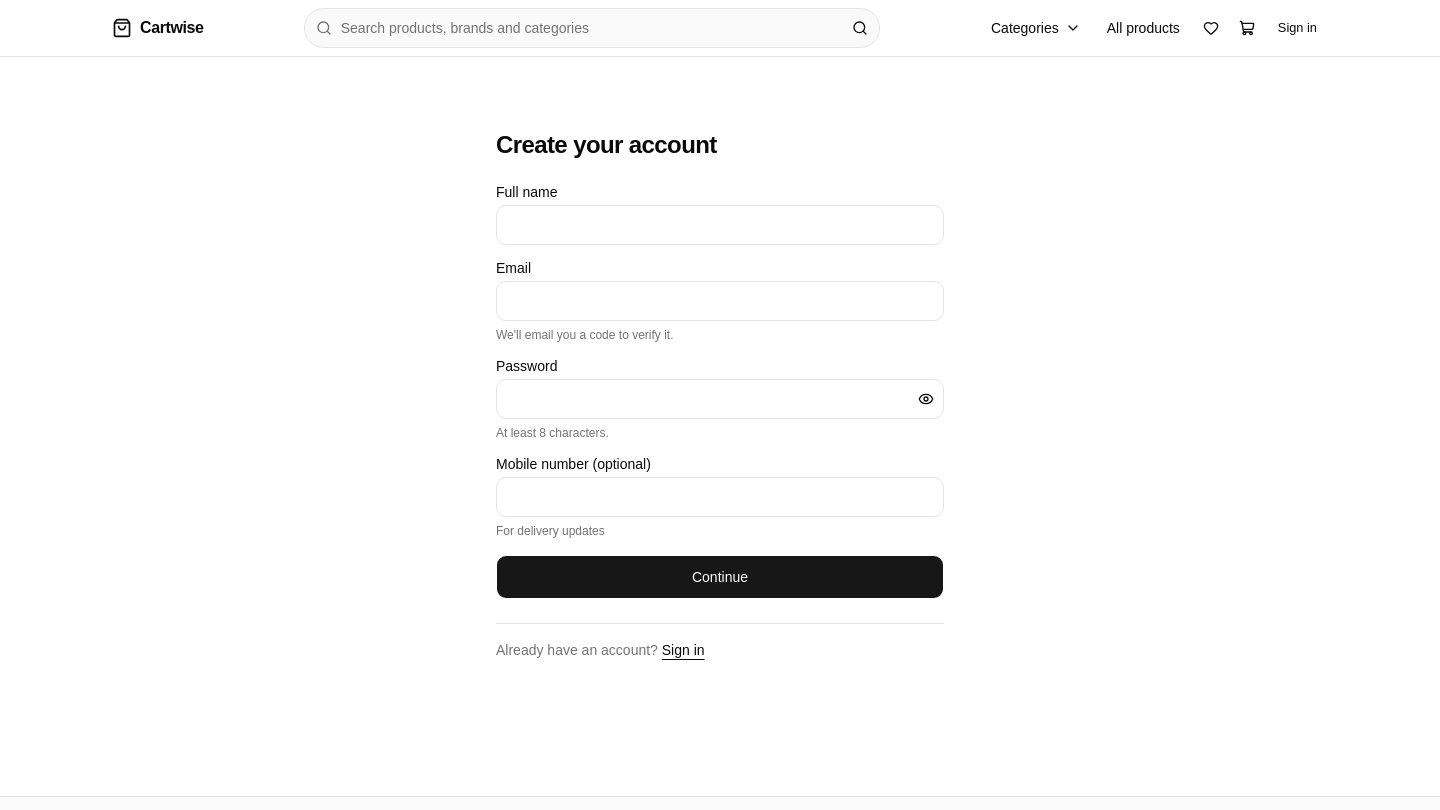
sign-up › points existing customers to sign in
The image size is (1440, 810).
Type "Karan" into the field labelled "Full name" at (720, 225), box x1=496 y1=205 x2=944 y2=245
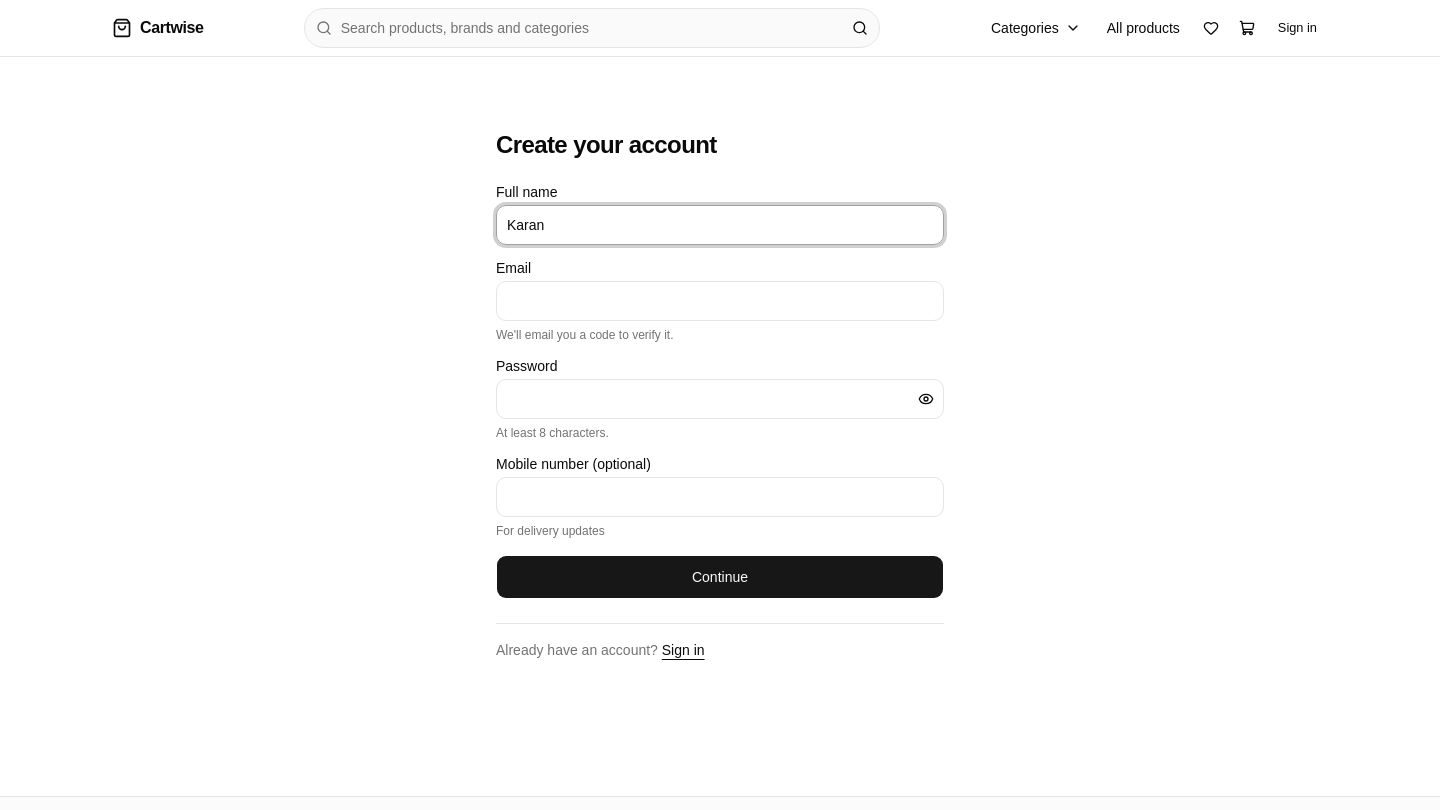
Type "karan@example.com" into the field labelled "Email" at (720, 301), box x1=496 y1=281 x2=944 y2=321
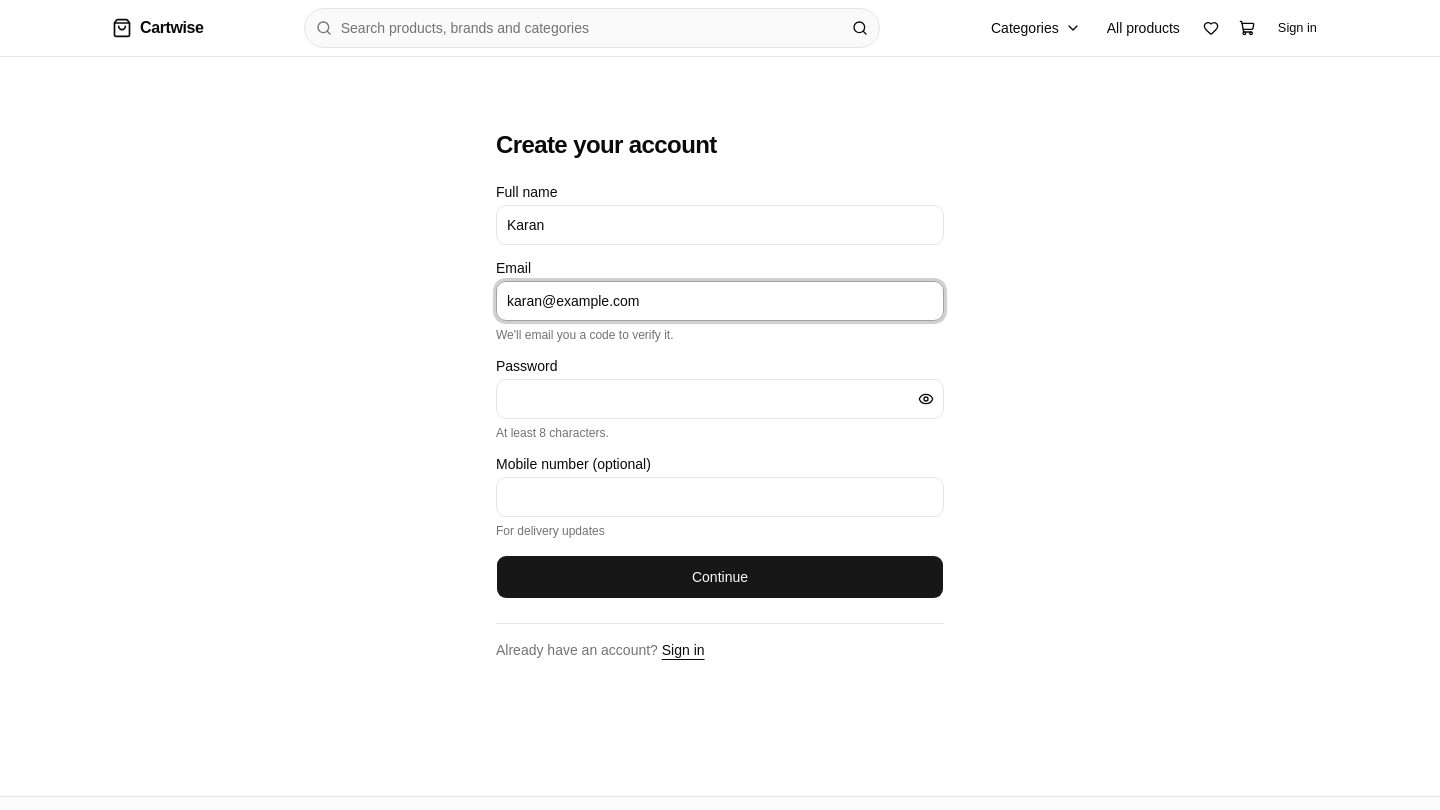
Type "another secret" into the password field labelled "Password" at (720, 399), box x1=496 y1=379 x2=944 y2=419
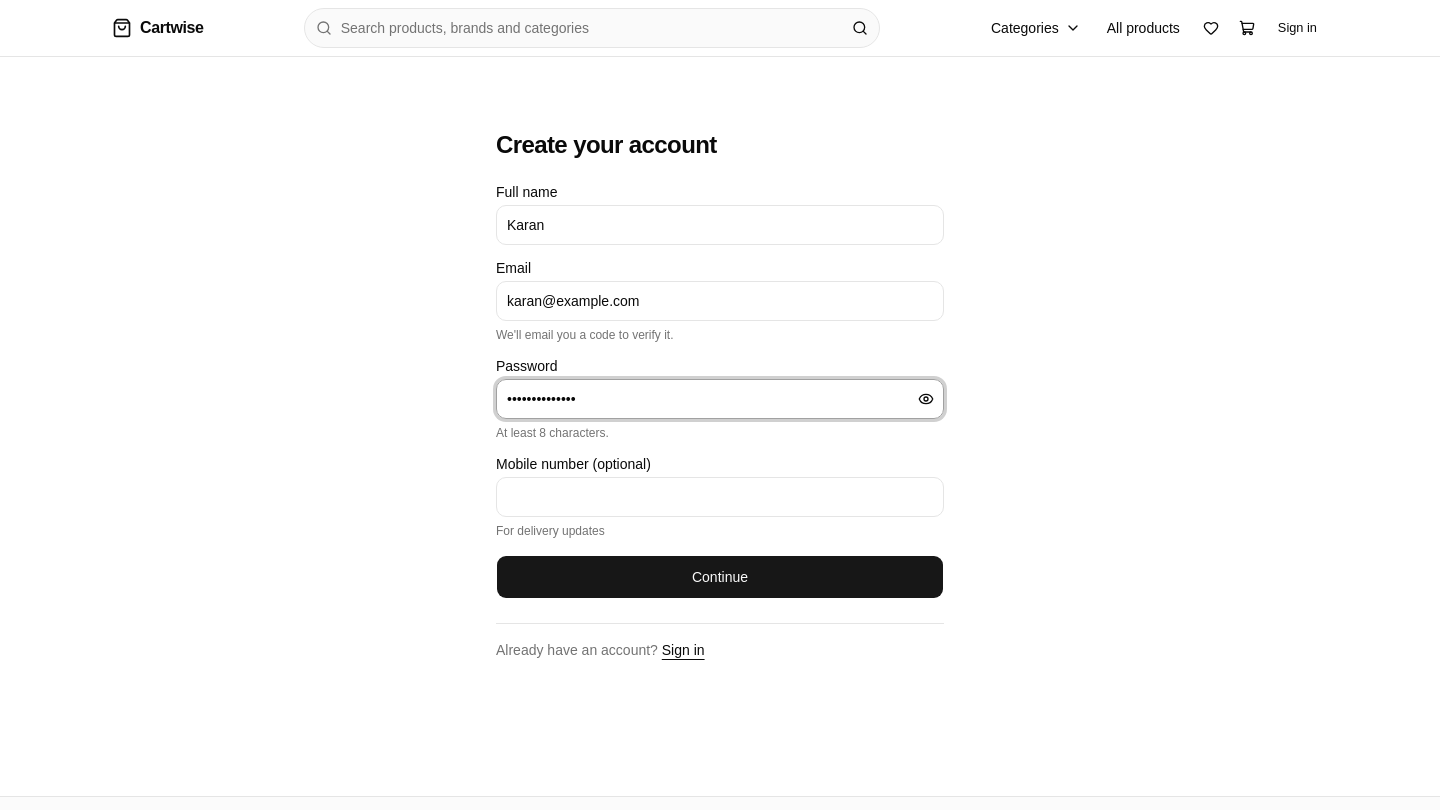
Click the button "Continue" at (720, 577), box x1=496 y1=555 x2=944 y2=599
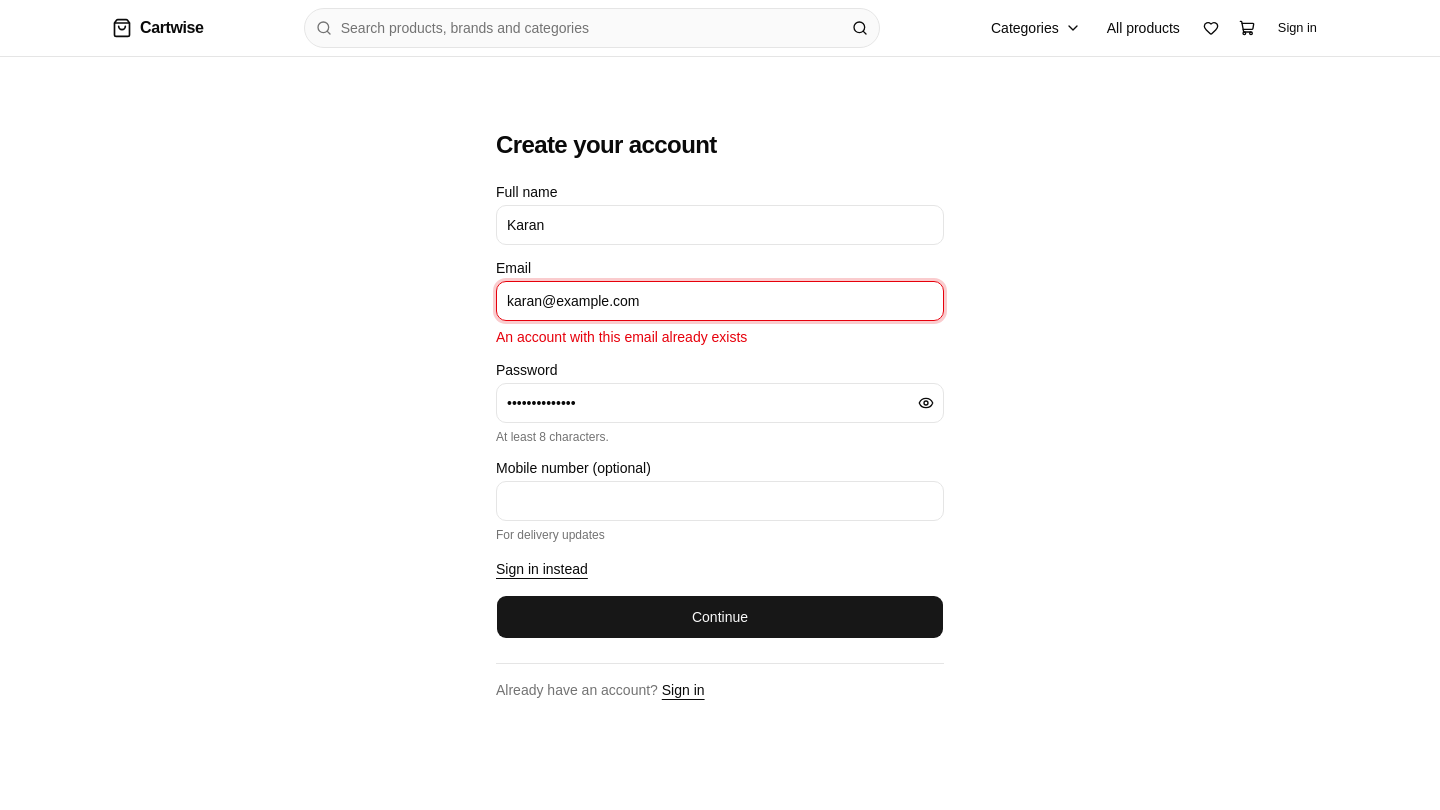
Check: the text "An account with this email already exists" is shown, box x1=496 y1=329 x2=747 y2=345
Check: the link "Sign in instead" is shown, box x1=496 y1=561 x2=588 y2=577
